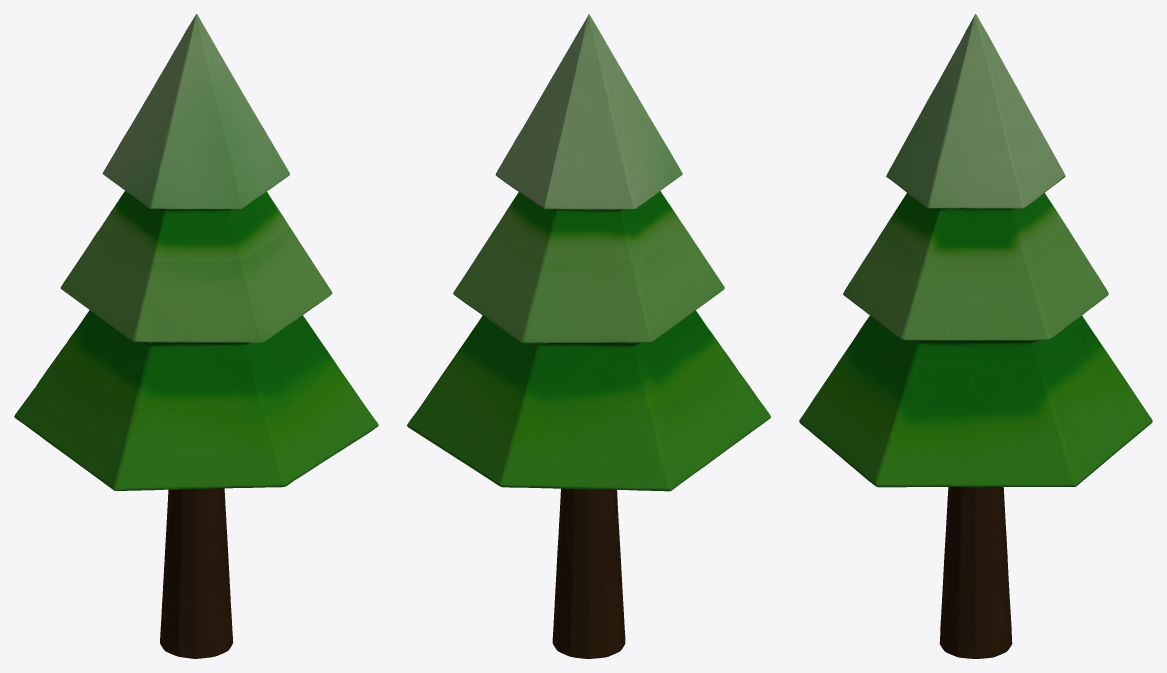
Rendered from pino.glb.
3 views of the same model, side by side, from view 1: azimuth 30°, elevation 25°; view 2: azimuth 150°, elevation 25°; view 3: azimuth 270°, elevation 25° (orthographic).
Visible parts, largest first — view 1: tripo_node_323df72a-0e59-4ea6-9ca8-858faa94f71d; view 2: tripo_node_323df72a-0e59-4ea6-9ca8-858faa94f71d; view 3: tripo_node_323df72a-0e59-4ea6-9ca8-858faa94f71d.
Boxes of the visible parts, x1=… form: tripo_node_323df72a-0e59-4ea6-9ca8-858faa94f71d: x1=14, y1=14, x2=378, y2=658; tripo_node_323df72a-0e59-4ea6-9ca8-858faa94f71d: x1=407, y1=14, x2=770, y2=658; tripo_node_323df72a-0e59-4ea6-9ca8-858faa94f71d: x1=799, y1=14, x2=1152, y2=658.
Size of the model in its own units: 0.4396 by 1 by 0.508.
1 material, 1 textured.
